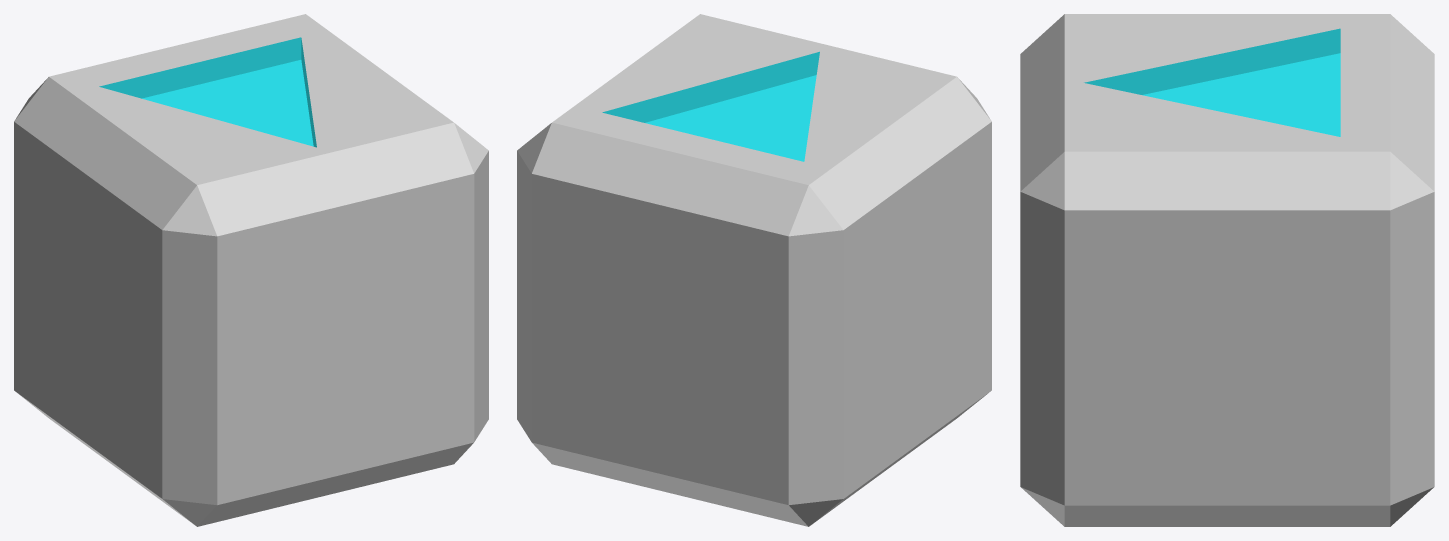
The model's file is cube_with_Arrow.glb.
The picture shows the model from 3 angles, left to right: view 1: azimuth 30°, elevation 25°; view 2: azimuth 150°, elevation 25°; view 3: azimuth 270°, elevation 25°; orthographic projection. The views are drawn at different scales.
Visible parts, largest first — view 1: polySurface6; view 2: polySurface6; view 3: polySurface6.
Boxes of the visible parts, x1,y1,x2,y2 form: polySurface6: (14,14,488,526); polySurface6: (517,14,991,526); polySurface6: (1020,14,1434,526).
Size of the model in its own units: 0.2281 by 0.2281 by 0.2281.
